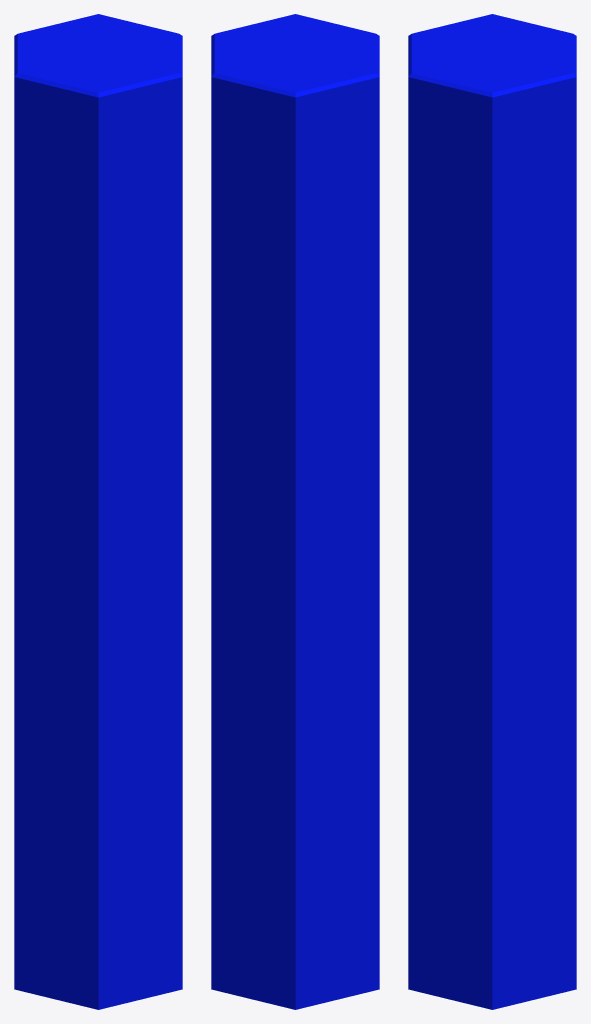
Rendered from hex.fbx.
3 views of the same model, side by side, from view 1: azimuth 30°, elevation 25°; view 2: azimuth 150°, elevation 25°; view 3: azimuth 270°, elevation 25° (orthographic).
Parts seen in each view (by area): view 1: Object_3, Object_2, Object_7, Object_5, Object_4, Object_6, Object_1; view 2: Object_3, Object_2, Object_7, Object_5, Object_4, Object_6, Object_1; view 3: Object_3, Object_2, Object_7, Object_5, Object_4, Object_6, Object_1.
Part boxes in pixels (box(x1,y1,x2,y2)): Object_3: box(14, 684, 182, 857); Object_2: box(14, 837, 182, 1009); Object_7: box(14, 226, 182, 399); Object_5: box(14, 379, 182, 552); Object_4: box(14, 532, 182, 704); Object_6: box(14, 77, 182, 246); Object_1: box(14, 14, 182, 97); Object_3: box(211, 684, 379, 857); Object_2: box(211, 837, 379, 1009); Object_7: box(211, 226, 379, 399); Object_5: box(211, 379, 379, 552); Object_4: box(211, 532, 379, 704); Object_6: box(211, 77, 379, 246); Object_1: box(211, 14, 379, 97); Object_3: box(408, 684, 576, 857); Object_2: box(408, 837, 576, 1009); Object_7: box(408, 226, 576, 399); Object_5: box(408, 379, 576, 552); Object_4: box(408, 532, 576, 704); Object_6: box(408, 77, 576, 246); Object_1: box(408, 14, 576, 97).
Size of the model in its own units: 115 by 100 by 600.
